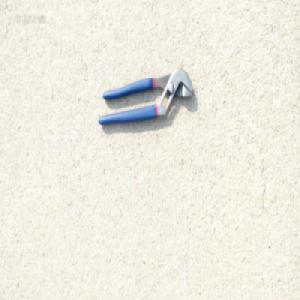Pliers: (97, 68, 194, 128)
